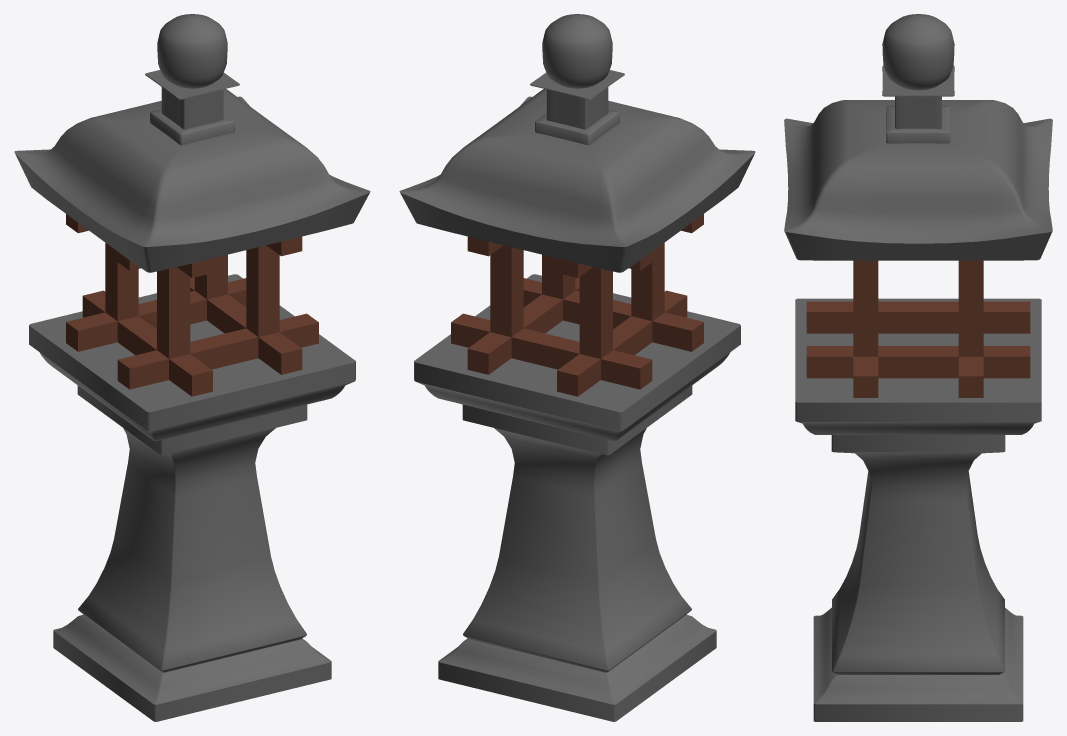
File: Toro.fbx
3 renders of one model, left to right at view 1: azimuth 30°, elevation 25°; view 2: azimuth 150°, elevation 25°; view 3: azimuth 270°, elevation 25°, orthographic. The views are drawn at different scales.
Parts seen in each view (by area): view 1: base, tree, stone_ball; view 2: base, tree, stone_ball; view 3: base, tree, stone_ball.
Part boxes in pixels (left/top/right/bottom): base: left=14, top=70, right=370, bottom=721; tree: left=66, top=214, right=318, bottom=396; stone_ball: left=157, top=14, right=227, bottom=88; base: left=399, top=70, right=755, bottom=721; tree: left=451, top=214, right=703, bottom=396; stone_ball: left=542, top=14, right=612, bottom=88; base: left=784, top=65, right=1052, bottom=721; tree: left=806, top=260, right=1030, bottom=397; stone_ball: left=882, top=14, right=954, bottom=90.
Size of the model in its own units: 43.16 by 117 by 43.16.
